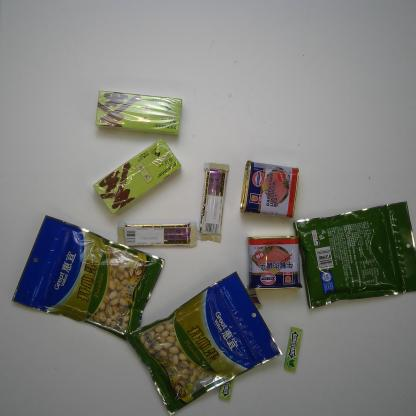Canned Food: (237, 159, 302, 219), (246, 235, 303, 290)
Chocolate: (198, 162, 230, 244), (116, 223, 199, 249), (244, 286, 262, 310)
Dried Fruit: (126, 271, 282, 415), (11, 214, 162, 339), (292, 203, 416, 311)
Gum: (284, 326, 303, 372), (218, 378, 236, 400)
Instant Drink: (92, 138, 182, 214), (93, 88, 184, 136)
